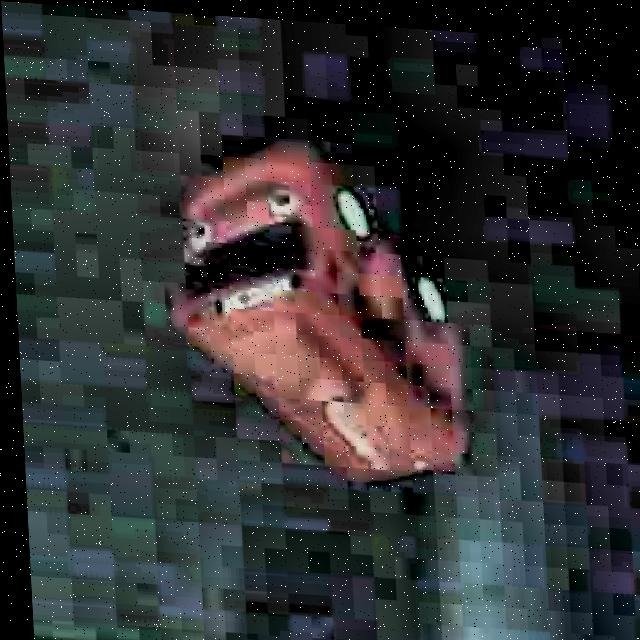bus: (143, 117, 484, 514)
